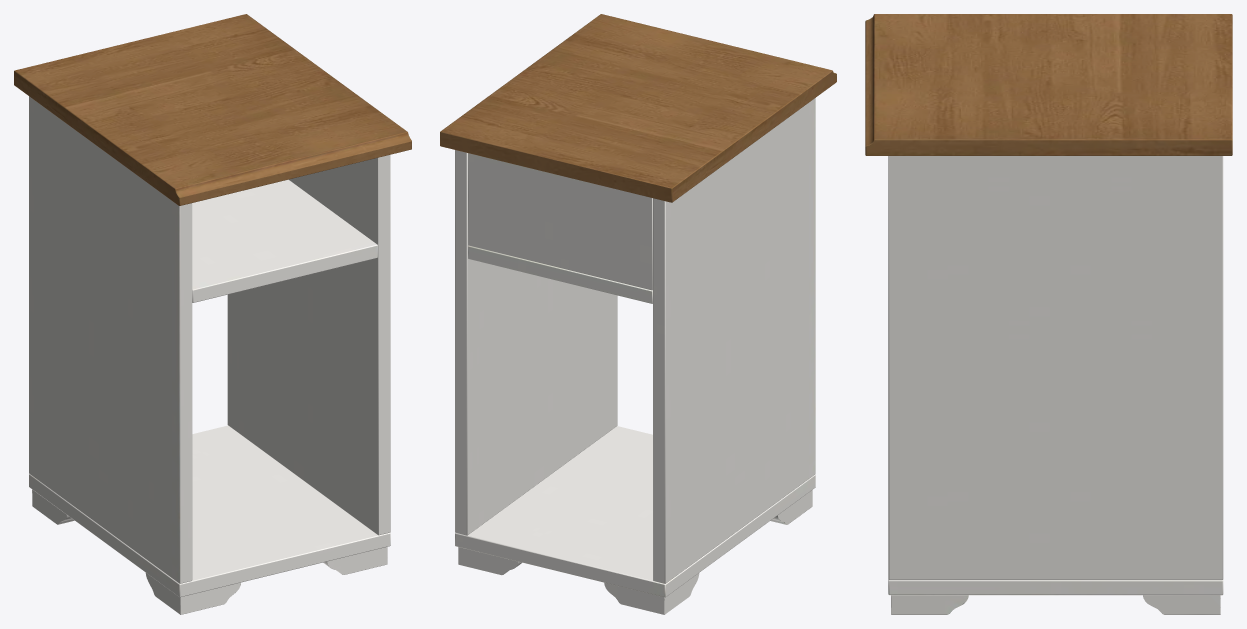
File: 16 - SKRUVBY - 邊桌，白色，40x32 公分 IKEA 線上購物.glb
The picture shows the model from 3 angles, left to right: view 1: azimuth 30°, elevation 25°; view 2: azimuth 150°, elevation 25°; view 3: azimuth 270°, elevation 25°; orthographic projection. The views are drawn at different scales.
Visible parts, largest first — view 1: Mesh_0; view 2: Mesh_0; view 3: Mesh_0.
Boxes of the visible parts, x1,y1,x2,y2 form: Mesh_0: [14, 14, 411, 614]; Mesh_0: [440, 14, 836, 614]; Mesh_0: [865, 14, 1232, 614].
Size of the model in its own units: 0.325 by 0.58 by 0.4.
Materials: 1 (1 with a texture image).
